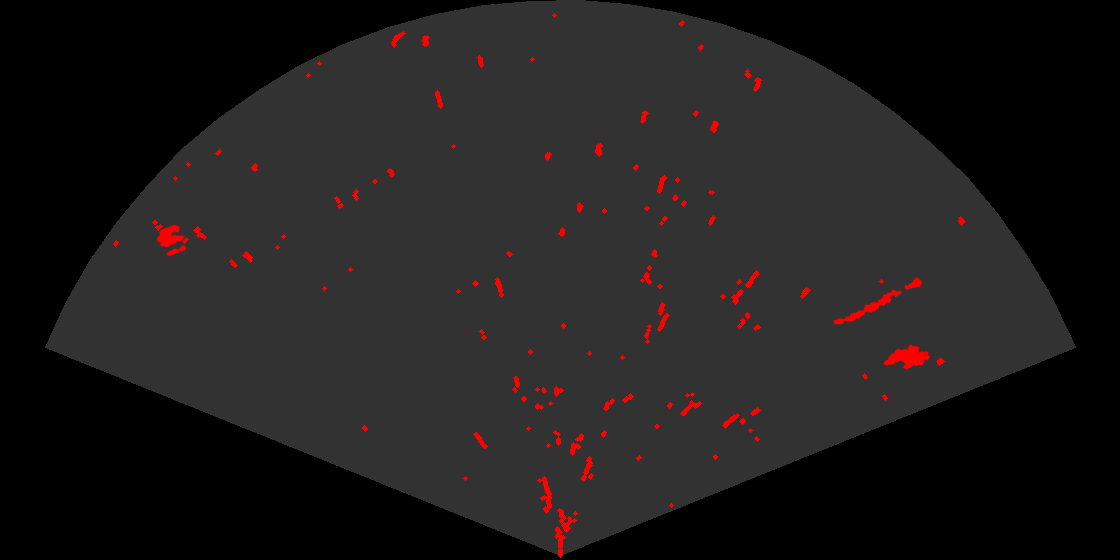AUV: (882, 343, 932, 371)
ball: (155, 223, 188, 258)
chain: (832, 276, 924, 326)
